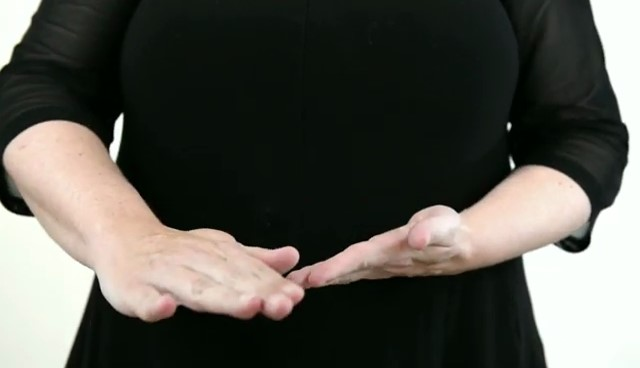H: (97, 161, 478, 328)
